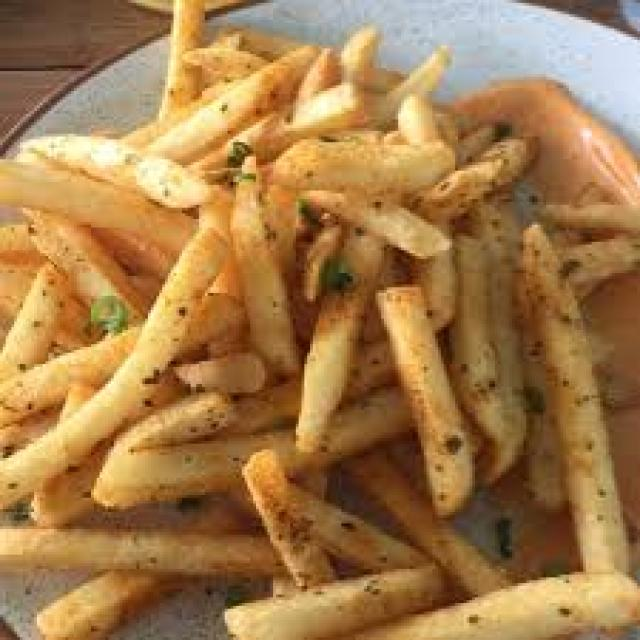감자튀김: (0, 0, 640, 640)
